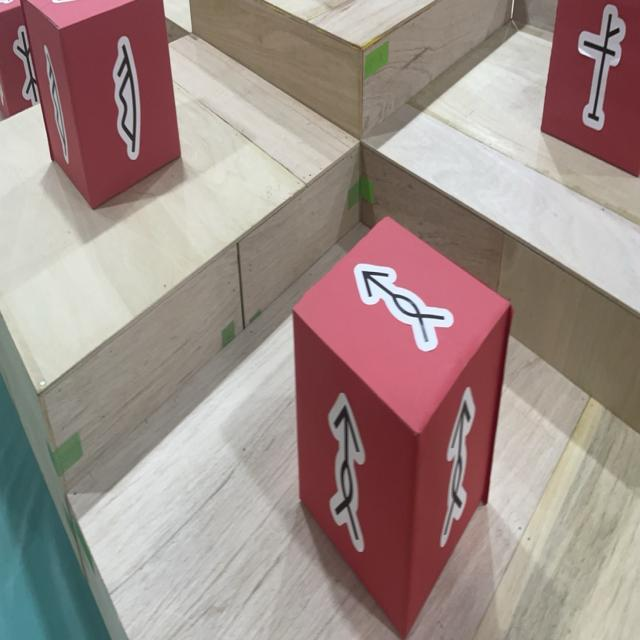11: (112, 36, 141, 160), (44, 45, 69, 163)
12: (353, 262, 455, 351), (328, 392, 366, 554), (439, 386, 476, 547)
6: (13, 24, 40, 105)
9: (578, 4, 626, 129)
fighter: (293, 215, 514, 640), (20, 0, 181, 209), (540, 0, 640, 178), (0, 0, 40, 119)
